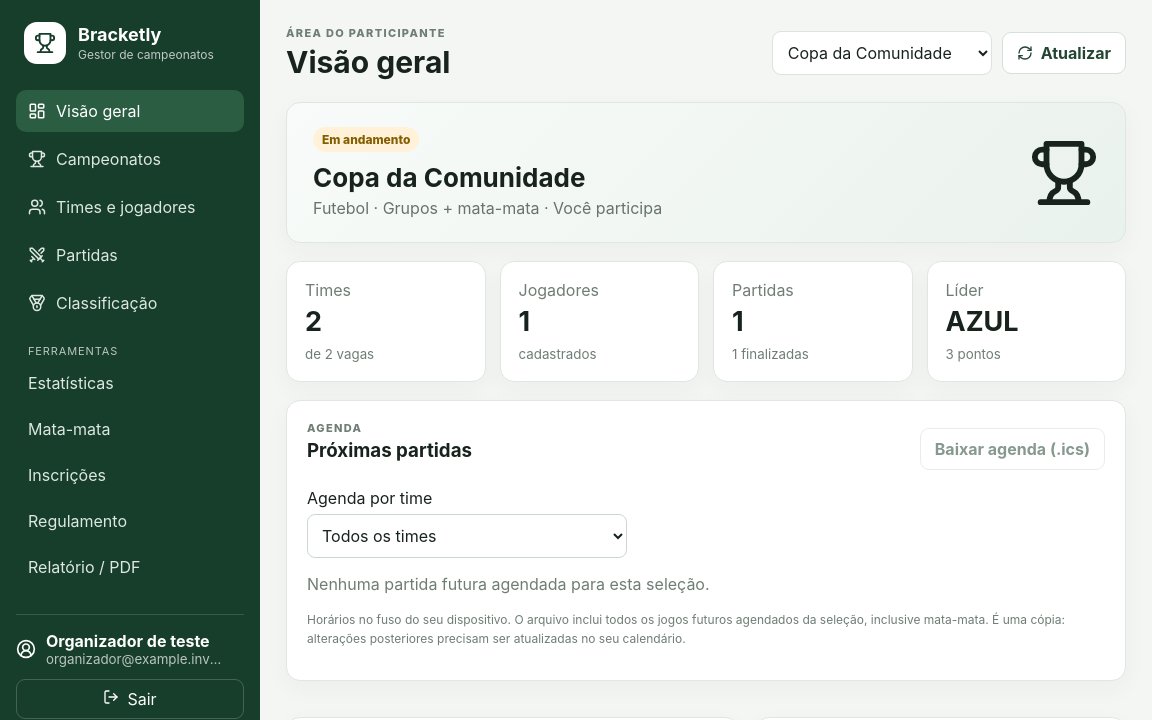
Test case: mantém a edição do próprio time quando não há vagas
Expected: the heading "Copa da Comunidade" is shown, [313,162,585,193]
What coordinates should you click on to do the following:
click the button "Times e jogadores"
I would click on:
 (130, 207)
Its box is [16,186,244,228].
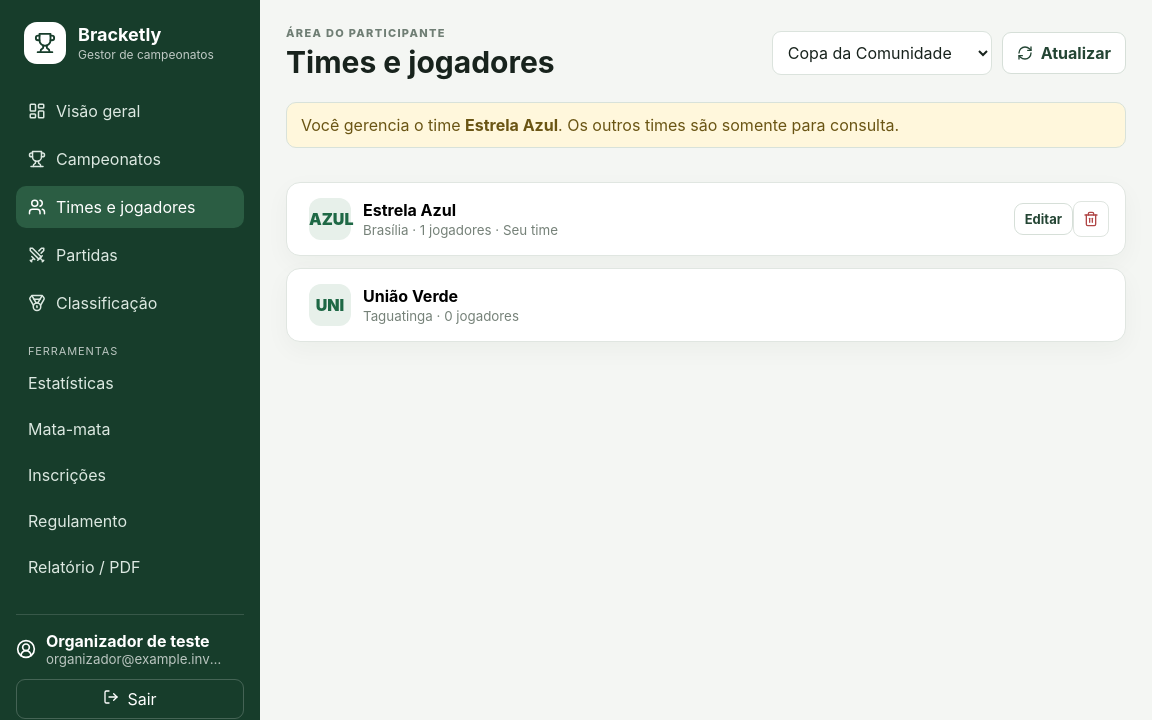
Result: the button "Editar" is enabled at [1014,203,1073,235]
